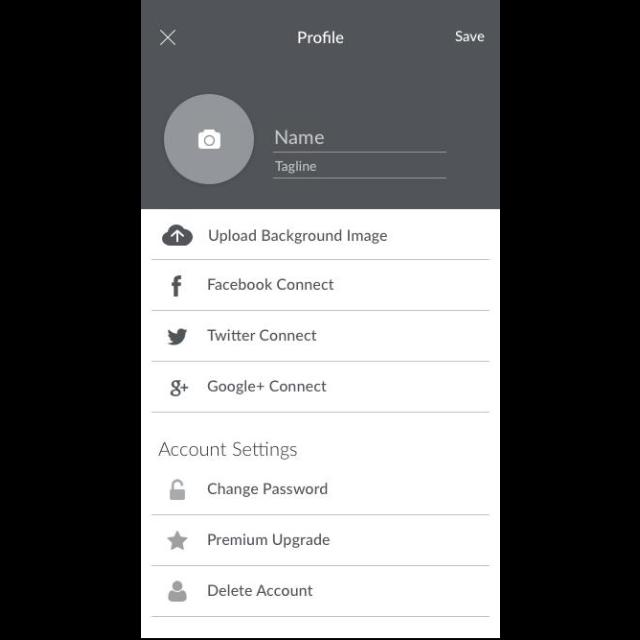icon: (162, 226, 192, 247), (166, 530, 188, 552), (168, 580, 186, 602), (166, 328, 188, 346), (158, 29, 178, 47), (171, 380, 189, 398), (170, 479, 184, 501), (172, 275, 182, 297)
image: (162, 93, 254, 185)
input: (272, 130, 448, 154), (272, 161, 448, 179)
text: (208, 230, 388, 247), (156, 442, 298, 461), (208, 532, 330, 548), (208, 379, 328, 395), (207, 277, 333, 291), (208, 482, 328, 496), (206, 330, 318, 342), (207, 584, 315, 596), (296, 32, 344, 44), (455, 31, 485, 43)
toolbar: (141, 2, 499, 64)
